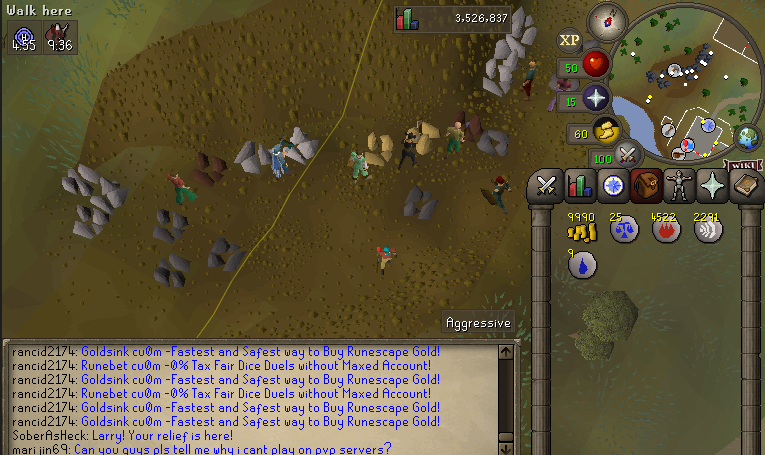depleted: (147, 250, 197, 293), (206, 235, 247, 275), (149, 207, 192, 245), (401, 184, 439, 223), (476, 127, 515, 159), (548, 69, 583, 96), (575, 36, 605, 62)
iron: (189, 152, 229, 189), (450, 106, 484, 142)
